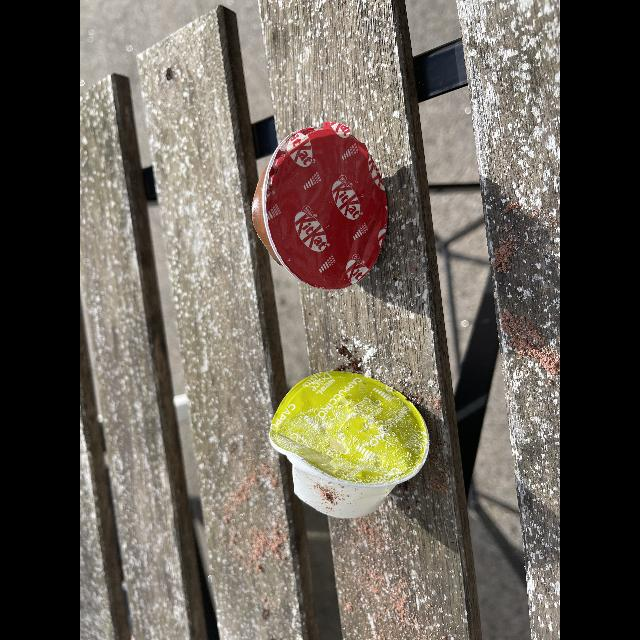damaged_capsule: (252, 359, 452, 529), (238, 112, 407, 298)
